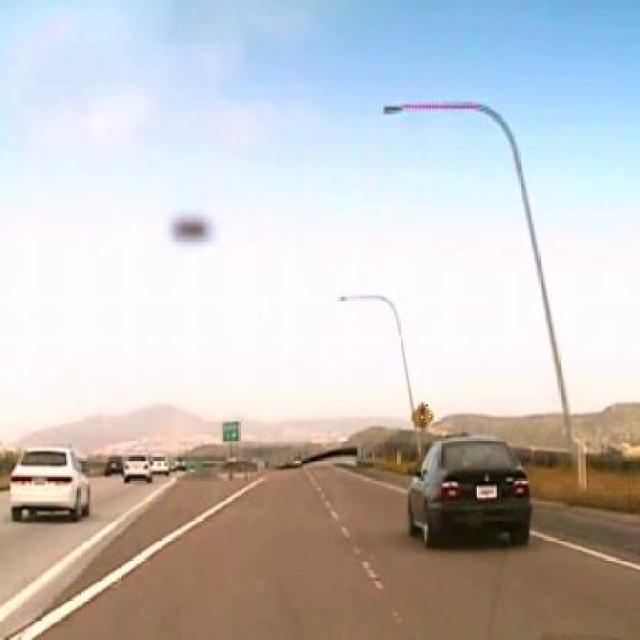signalAhead: (409, 402, 434, 434)
